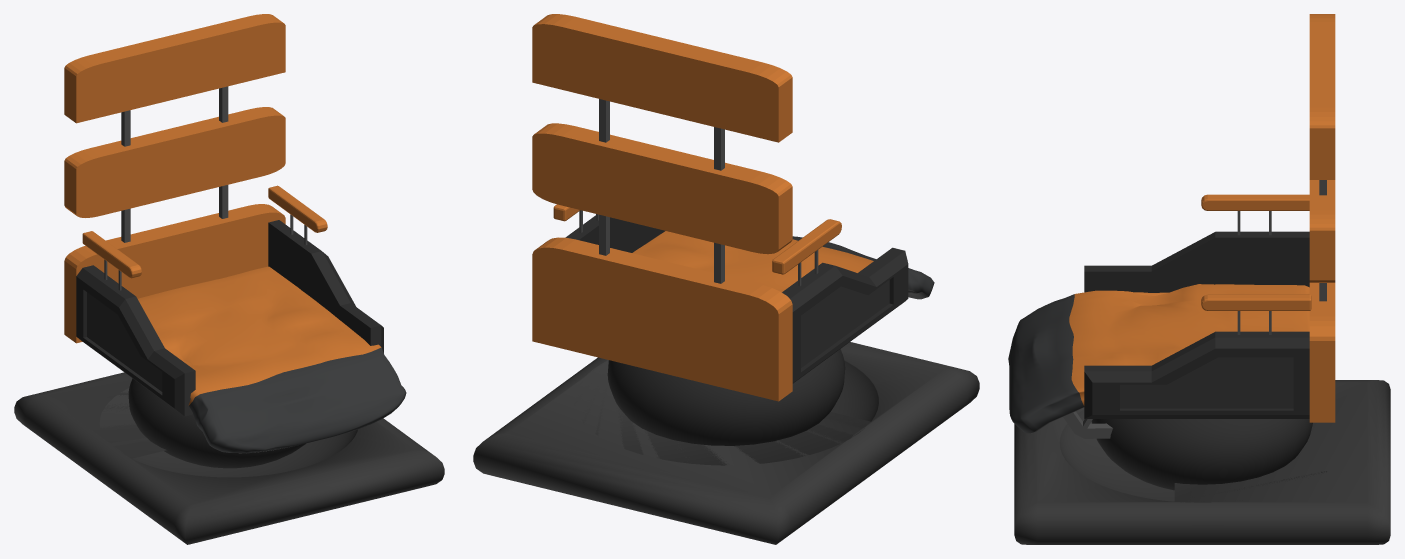
The model's file is Sci-FI seat.fbx.
3 renders of one model, left to right at view 1: azimuth 30°, elevation 25°; view 2: azimuth 150°, elevation 25°; view 3: azimuth 270°, elevation 25°, orthographic. The views are drawn at different scales.
Parts seen in each view (by area): view 1: Cube.004, Cube, Plane, Cube.003, Cube.002, Cube.001, Sphere; view 2: Cube, Cube.001, Cube.003, Cube.002, Plane, Sphere, Cube.004; view 3: Cube, Plane, Cube.004, Sphere, Cube.002, Cube.001, Cube.003, Cube.005.
Part boxes in pixels (x1,y1,x2,y2): Cube.004: (138, 266, 406, 453); Cube: (14, 372, 444, 544); Plane: (76, 86, 383, 416); Cube.003: (64, 107, 285, 217); Cube.002: (64, 14, 285, 123); Cube.001: (64, 204, 285, 343); Sphere: (128, 378, 305, 468); Cube: (473, 342, 979, 544); Cube.001: (532, 237, 792, 401); Cube.003: (532, 123, 792, 254); Cube.002: (532, 14, 792, 142); Plane: (553, 99, 908, 383); Sphere: (607, 349, 845, 445); Cube.004: (632, 231, 934, 299); Cube: (1014, 380, 1390, 544); Plane: (1084, 180, 1326, 418); Cube.004: (1008, 284, 1309, 433); Sphere: (1091, 419, 1312, 490); Cube.002: (1309, 14, 1335, 179); Cube.001: (1309, 283, 1335, 422); Cube.003: (1309, 180, 1335, 282); Cube.005: (1063, 411, 1112, 438).
Size of the model in its own units: 371 by 518 by 430.
